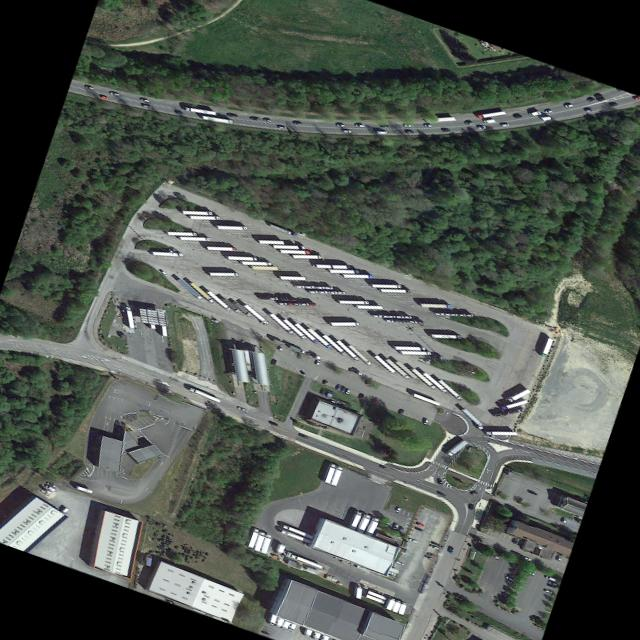large-vehicle: (457, 407, 487, 431), (410, 368, 437, 390), (188, 387, 222, 404), (189, 282, 215, 304), (322, 334, 347, 356), (385, 359, 411, 380), (243, 304, 269, 325), (177, 279, 203, 300), (307, 328, 333, 349), (282, 319, 308, 340), (291, 554, 324, 570), (279, 529, 312, 545), (423, 373, 448, 394), (348, 345, 373, 366), (269, 313, 294, 334), (206, 291, 232, 311), (336, 340, 360, 361), (295, 323, 319, 344), (281, 525, 314, 540), (438, 380, 462, 400), (446, 440, 469, 457), (506, 389, 532, 404), (269, 224, 298, 237), (492, 407, 526, 418), (221, 298, 242, 314), (501, 400, 529, 411), (233, 302, 252, 318), (371, 313, 414, 320), (365, 517, 380, 537), (184, 107, 217, 116), (330, 466, 344, 487), (260, 533, 273, 555), (357, 515, 371, 534), (350, 511, 363, 531), (258, 296, 301, 302), (202, 116, 234, 124), (325, 464, 337, 485), (542, 338, 554, 358), (254, 532, 266, 552), (248, 529, 260, 549), (385, 319, 425, 325), (478, 111, 507, 119), (368, 590, 387, 602), (365, 594, 385, 605), (125, 307, 135, 329), (423, 117, 457, 123), (294, 285, 334, 290), (434, 312, 474, 317), (307, 290, 346, 295), (485, 431, 519, 436), (289, 345, 306, 355), (273, 245, 306, 250), (152, 252, 184, 257), (292, 255, 324, 260), (277, 302, 317, 306), (338, 300, 369, 305), (380, 289, 411, 294), (371, 284, 402, 289), (384, 597, 395, 611), (227, 256, 257, 261), (167, 232, 197, 237), (280, 250, 310, 255), (401, 351, 431, 356), (395, 346, 425, 351), (431, 334, 461, 339), (343, 274, 373, 279), (331, 322, 360, 327), (391, 600, 402, 613), (316, 265, 351, 269), (275, 543, 286, 555), (179, 237, 211, 241), (420, 304, 452, 308), (398, 602, 407, 616), (206, 247, 237, 251), (189, 216, 220, 220), (182, 211, 213, 215), (241, 262, 272, 266), (329, 270, 360, 274), (280, 620, 291, 631), (274, 617, 285, 628), (354, 585, 362, 600), (349, 369, 364, 377), (306, 352, 321, 360), (209, 273, 239, 277), (217, 226, 247, 230), (268, 615, 278, 626), (303, 628, 313, 638), (312, 631, 322, 640), (288, 623, 297, 631), (60, 507, 70, 514), (528, 112, 542, 117), (321, 634, 331, 640), (483, 120, 496, 124)
small-vehicle: (545, 576, 559, 583), (526, 489, 538, 497), (297, 433, 309, 440), (44, 485, 56, 492), (539, 116, 552, 122), (521, 555, 532, 562), (429, 355, 444, 360), (523, 570, 535, 576), (268, 420, 278, 427), (548, 580, 558, 587), (543, 588, 553, 595), (430, 540, 440, 547), (414, 526, 424, 533), (428, 544, 439, 550), (468, 490, 479, 496), (446, 546, 454, 554), (505, 575, 514, 582), (379, 464, 388, 471), (237, 407, 247, 413), (46, 482, 56, 488), (436, 491, 446, 497), (489, 554, 499, 560), (226, 113, 238, 118), (408, 538, 418, 544), (424, 555, 434, 561), (394, 560, 404, 566), (586, 97, 596, 103), (555, 555, 563, 562), (335, 384, 342, 392), (436, 478, 443, 486), (511, 538, 519, 545), (595, 97, 606, 102), (608, 102, 619, 107), (261, 630, 270, 636), (426, 552, 435, 558), (109, 92, 119, 97), (592, 93, 602, 98), (464, 121, 474, 126), (512, 114, 522, 119), (584, 108, 594, 113), (564, 104, 574, 109), (561, 517, 568, 524), (364, 380, 371, 387), (358, 393, 365, 400), (422, 419, 429, 426), (160, 271, 168, 277), (397, 409, 405, 415), (140, 98, 149, 103), (142, 104, 151, 109), (440, 128, 451, 132), (403, 124, 414, 128), (378, 124, 389, 128), (354, 124, 365, 128), (500, 123, 511, 127), (277, 346, 284, 352), (322, 380, 329, 386), (468, 504, 474, 511), (392, 524, 399, 530), (315, 360, 321, 367), (477, 126, 487, 130), (423, 124, 433, 128), (277, 126, 287, 130), (249, 117, 259, 121), (100, 95, 108, 100), (416, 522, 424, 527), (375, 131, 388, 134), (84, 86, 93, 90), (340, 387, 346, 393), (271, 359, 277, 365), (395, 507, 401, 513), (544, 110, 553, 114), (345, 389, 351, 395), (341, 130, 352, 133), (632, 96, 640, 100), (175, 111, 182, 115), (405, 131, 414, 134), (336, 124, 345, 127), (293, 122, 302, 125), (263, 119, 271, 122)
